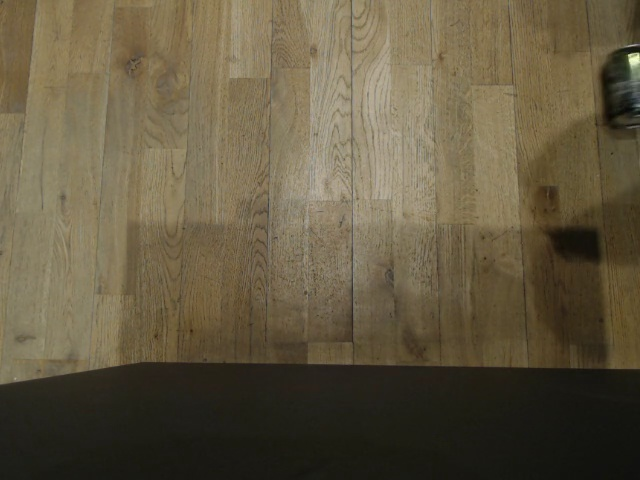beer: (597, 42, 640, 137)
